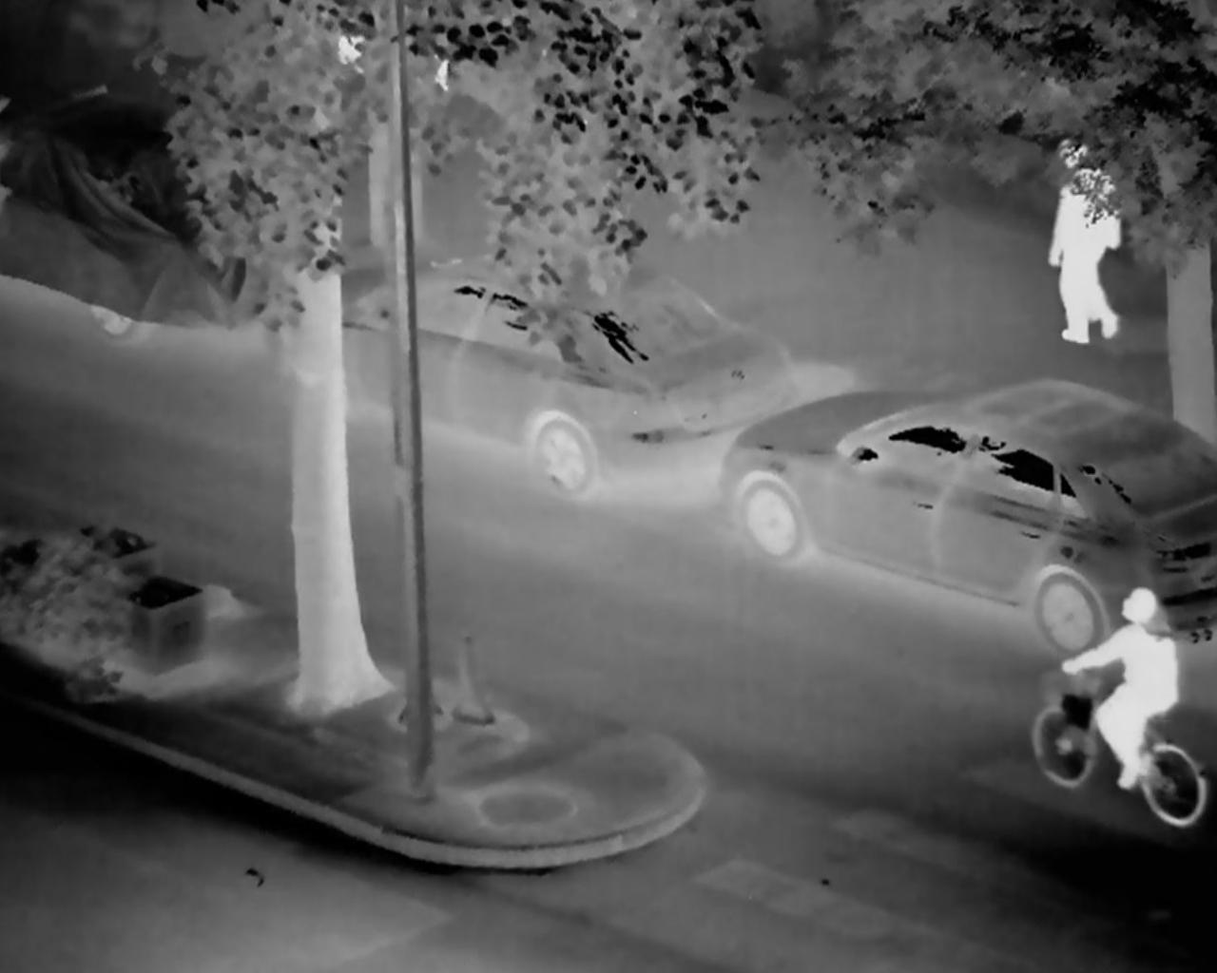person: (1053, 576, 1179, 801), (1040, 129, 1123, 353)
